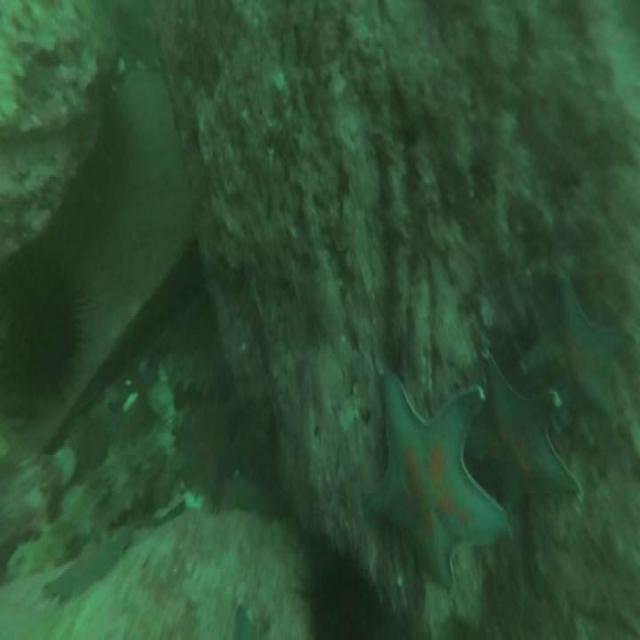echinus: (0, 245, 85, 411), (300, 537, 386, 640)
holothurian: (23, 430, 165, 572), (158, 338, 236, 402)
starfish: (359, 362, 507, 594), (468, 349, 583, 522), (519, 270, 625, 449), (41, 526, 130, 608)
